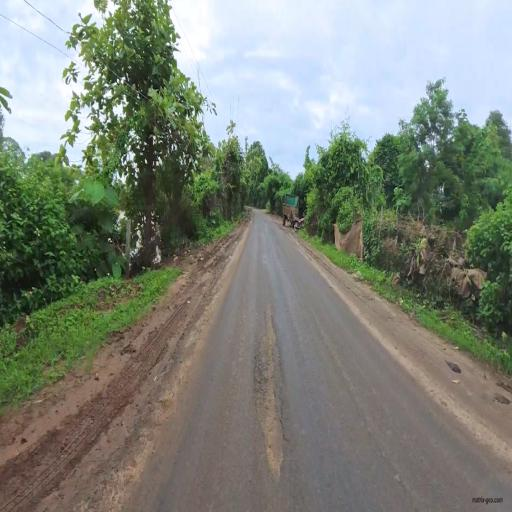ravelling: (231, 251, 307, 500)
